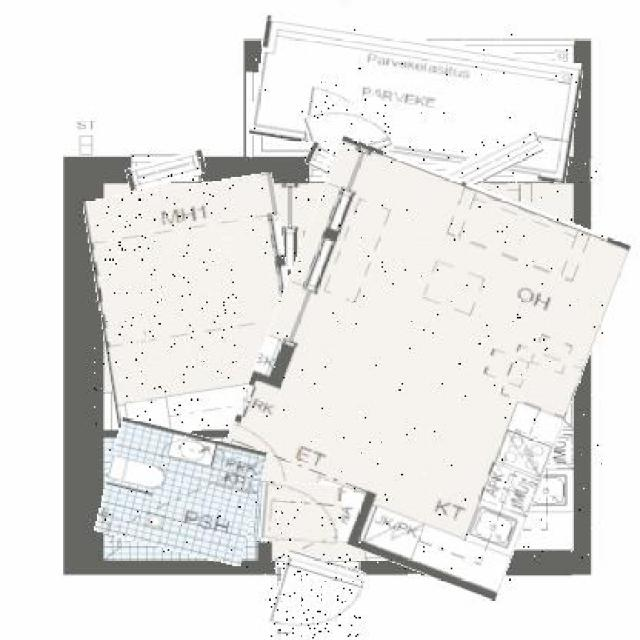door: (269, 554, 362, 640), (306, 99, 391, 170), (254, 482, 341, 543)
window: (404, 142, 544, 198), (304, 151, 394, 192), (126, 154, 205, 186)
zone: (237, 157, 603, 580), (92, 180, 302, 435), (254, 28, 580, 172), (100, 426, 262, 559)
